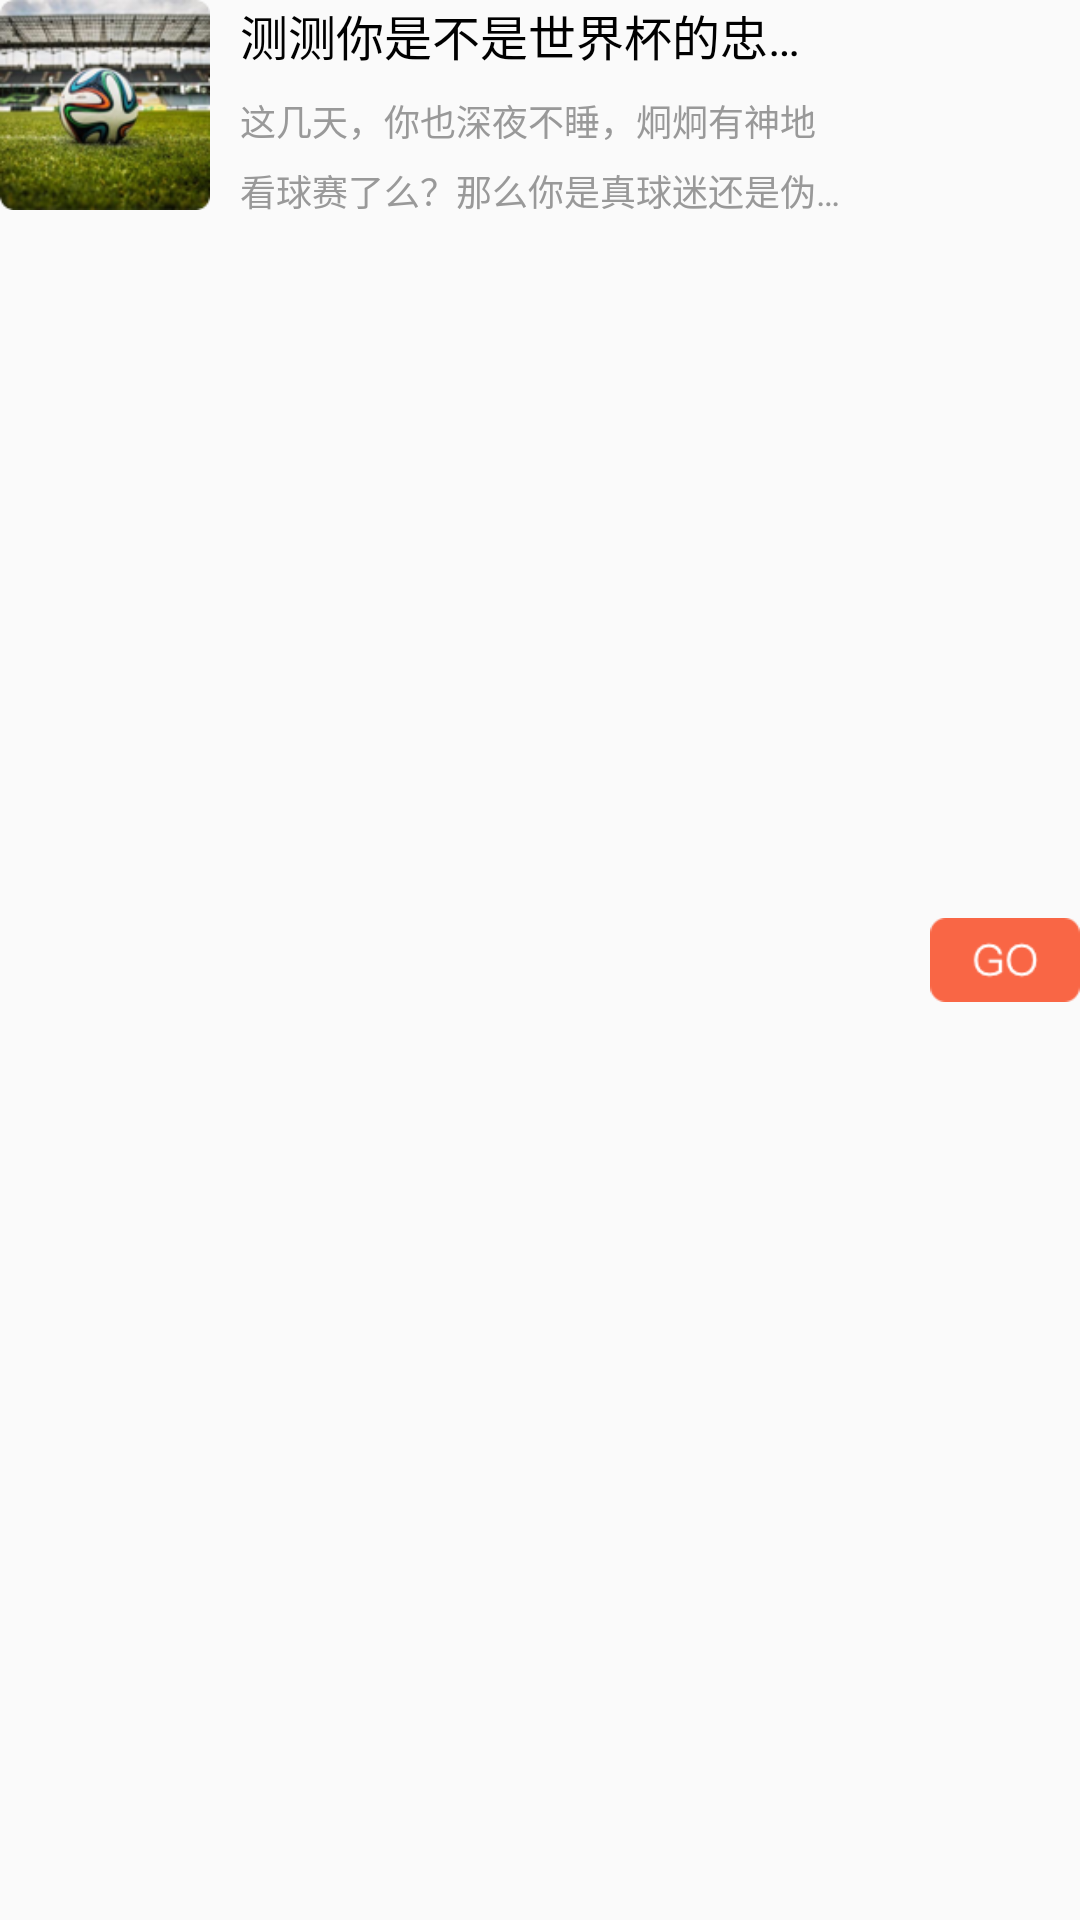

Named icons in this screenshot (1080w x 1920h) and their bounding boxes, (x1, y1, x2, y2):
otherimg: (0, 0, 210, 210)
